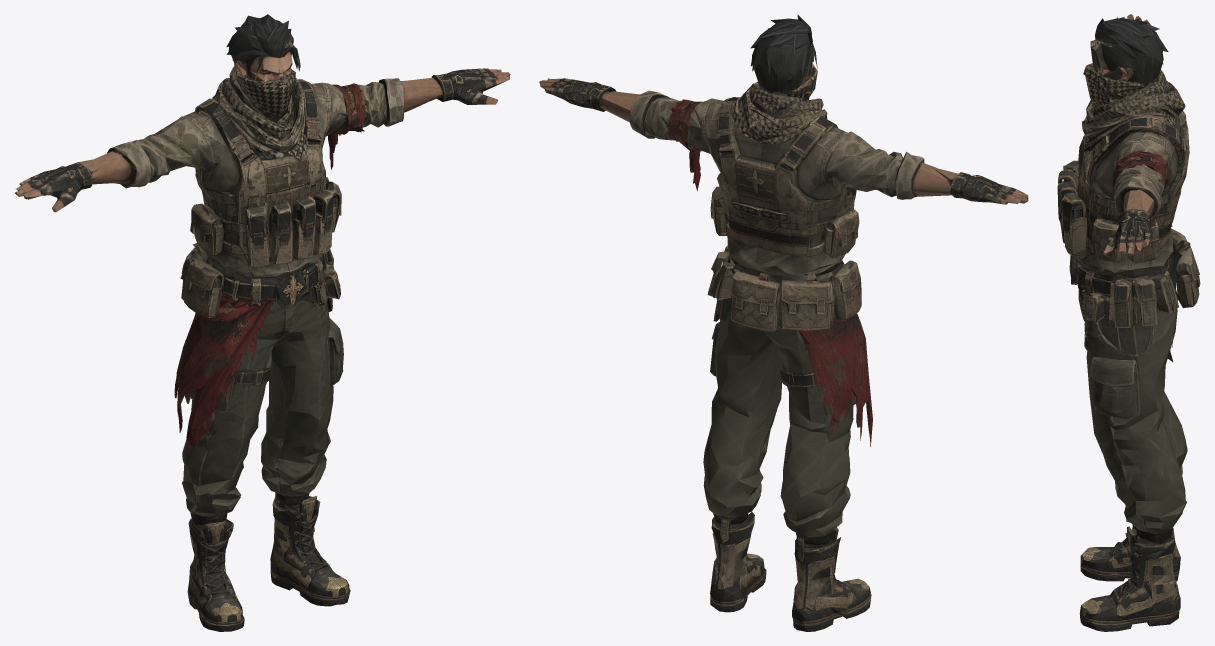
The model's file is saber-t.fbx.
3 views of the same model, side by side, from view 1: azimuth 30°, elevation 25°; view 2: azimuth 150°, elevation 25°; view 3: azimuth 270°, elevation 25° (orthographic).
Parts seen in each view (by area): view 1: char1; view 2: char1; view 3: char1.
Boxes of the visible parts, box(x1,y1,x2,y2) form: char1: box(15, 14, 510, 631); char1: box(539, 14, 1028, 631); char1: box(1057, 14, 1200, 631).
Size of the model in its own units: 159 by 180 by 40.17.
1 material, 1 textured.
